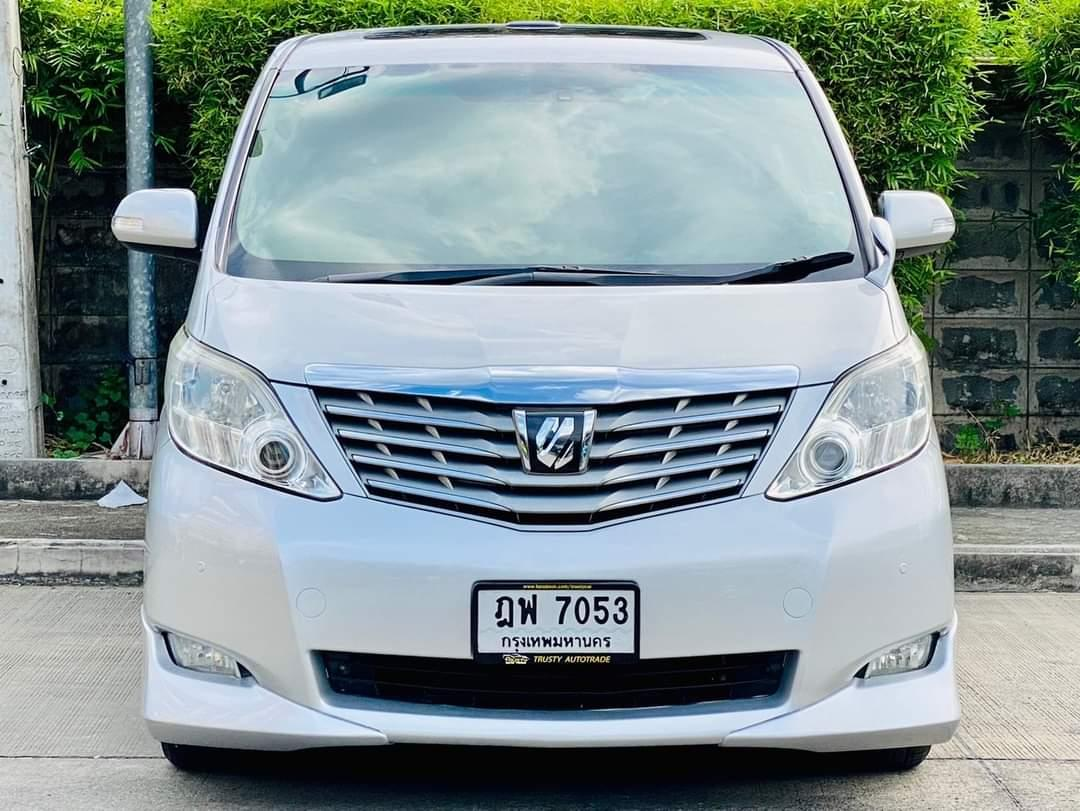license-plate: (469, 578, 641, 668)
